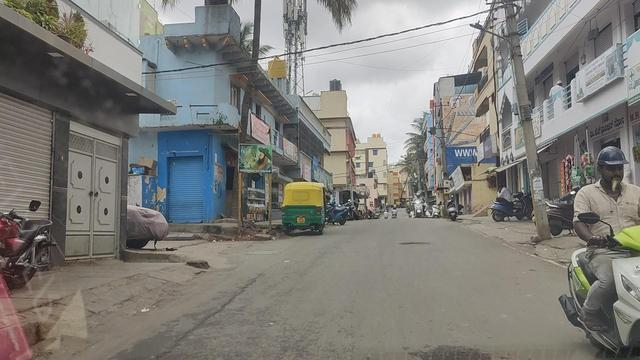RoadDamages: (232, 269, 269, 296), (174, 317, 212, 343), (395, 236, 433, 254), (244, 245, 282, 259)
